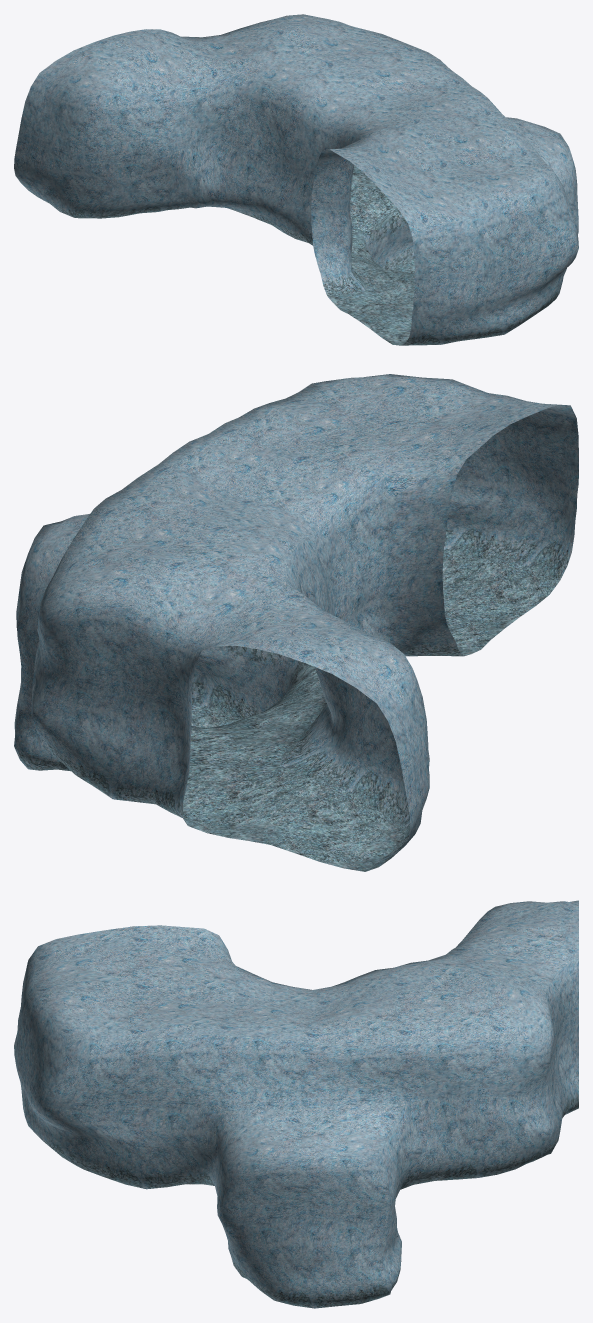
Rendered from thm_all_cave_flatland_s01_ice_r4_mesh_r4.fbx.
The picture shows the model from 3 angles, top to bottom: view 1: azimuth 30°, elevation 25°; view 2: azimuth 150°, elevation 25°; view 3: azimuth 270°, elevation 25°; orthographic projection. The views are drawn at different scales.
Visible parts, largest first — view 1: mesh_node; view 2: mesh_node; view 3: mesh_node.
Part boxes in pixels (<box>): mesh_node: <box>14,14,578,345</box>; mesh_node: <box>14,374,578,871</box>; mesh_node: <box>14,900,578,1308</box>.
Size of the model in its own units: 59.37 by 33.41 by 66.82.
